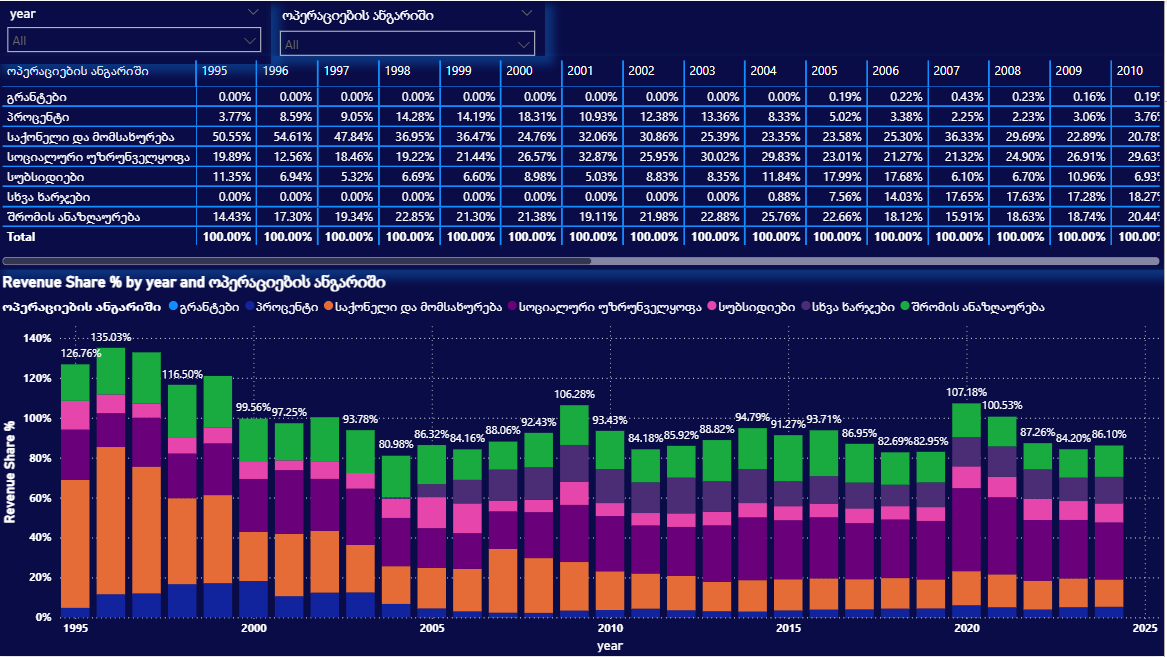

What the dashboard file says about the page in this screenshot:
{"tool":"powerbi","page":{"name":"Page 2","canvas":[1280,720],"ordinal":1},"visuals":[{"type":"pivotTable","fields":{"Rows":["GG_ge.ოპერაციების ანგარიში"],"Columns":["GG_ge.year"],"Values":["GG_ge.Expense Share %"]},"box":[0,60.4,1280.3,234.6],"z":0},{"type":"columnChart","fields":{"Category":["GG_ge.year"],"Series":["GG_ge.ოპერაციების ანგარიში"],"Y":["GG_ge.Revenue Share %"]},"box":[0,295,1280.3,425.4],"z":1000},{"type":"slicer","fields":{"Values":["GG_ge.year"]},"box":[0,0,299.1,68.6],"z":2000},{"type":"slicer","fields":{"Values":["GG_ge.ოპერაციების ანგარიში"]},"box":[299.1,0,300.5,60.4],"z":3000}]}

Visuals, with their boxes in screenshot pixels (x1, y1, x2, y2), scaled from the page's 1280x720 canvas onto the 1167x657 screenshot:
pivotTable - GG_ge.ოპერაციების ანგარიში x GG_ge.year: bbox=(0, 55, 1166, 269)
columnChart - GG_ge.year x GG_ge.ოპერაციების ანგარიში: bbox=(0, 269, 1166, 656)
slicer - GG_ge.year: bbox=(0, 0, 273, 63)
slicer - GG_ge.ოპერაციების ანგარიში: bbox=(273, 0, 547, 55)
